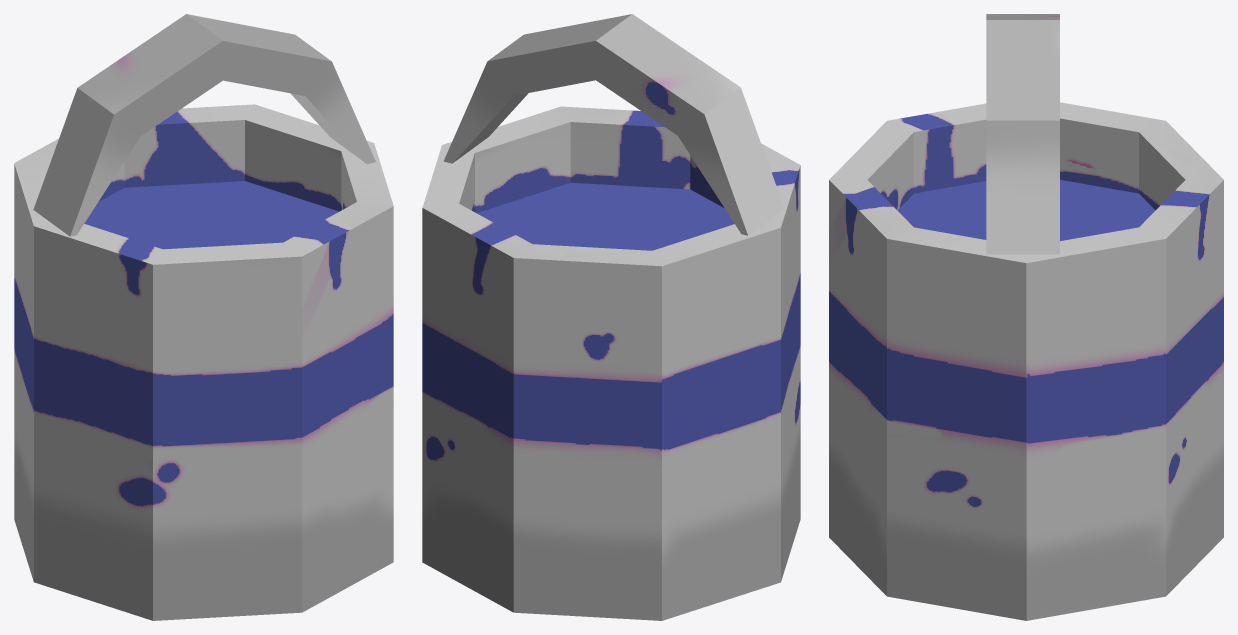
Rendered from Ink Bucket (Blue).fbx.
3 views of the same model, side by side, from view 1: azimuth 30°, elevation 25°; view 2: azimuth 150°, elevation 25°; view 3: azimuth 270°, elevation 25° (orthographic).
Visible parts, largest first — view 1: Cylinder.001; view 2: Cylinder.001; view 3: Cylinder.001.
Part boxes in pixels (<box>): Cylinder.001: <box>14,14,393,620</box>; Cylinder.001: <box>422,14,800,620</box>; Cylinder.001: <box>829,14,1223,620</box>.
Size of the model in its own units: 124 by 180 by 124.
